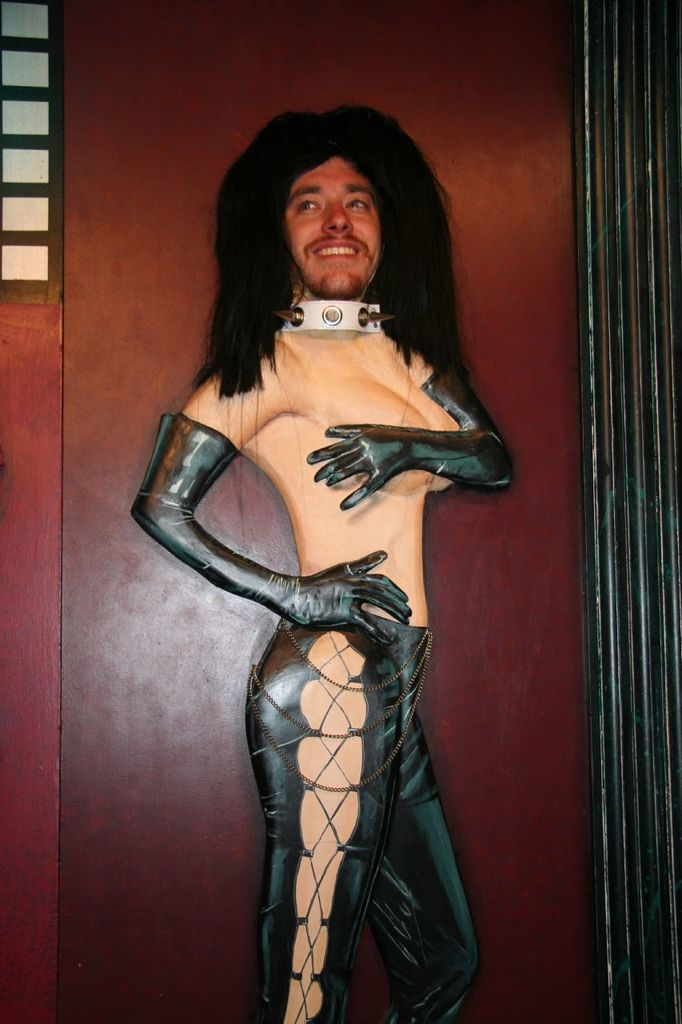Person: (129, 104, 513, 1024)
